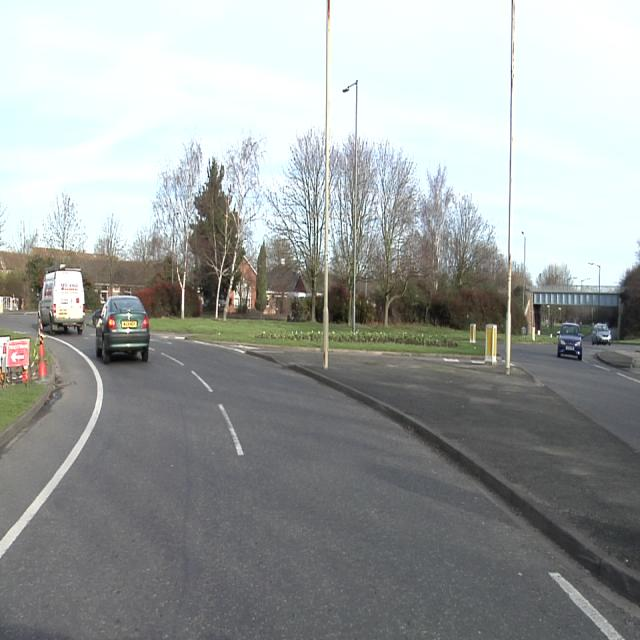Building: (620, 243, 639, 336)
Car: (95, 296, 149, 362), (557, 323, 582, 359), (592, 324, 611, 344)
Road: (3, 334, 639, 625)
Tree: (136, 128, 325, 317), (328, 135, 506, 326), (2, 190, 87, 307), (96, 212, 125, 278), (620, 240, 639, 334), (536, 263, 572, 285)
Truck_Bus: (41, 266, 84, 332)
